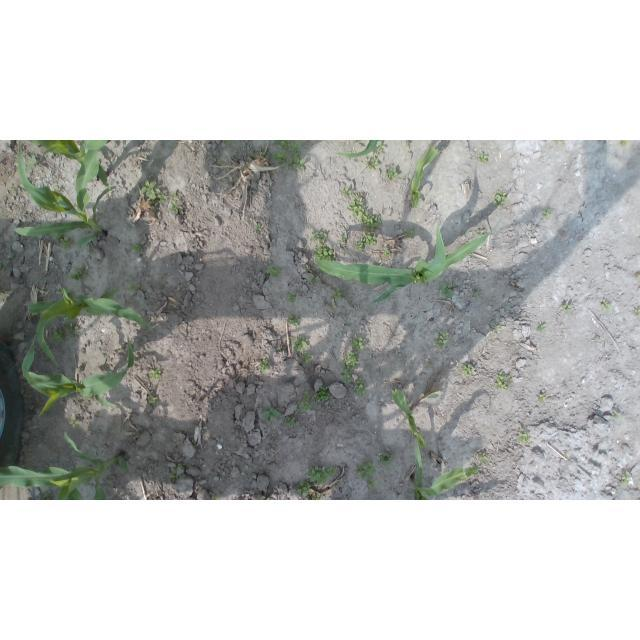Maize: (315, 214, 505, 304), (15, 141, 118, 248), (24, 284, 152, 368), (22, 333, 135, 417), (0, 432, 128, 500), (26, 141, 112, 190), (409, 440, 479, 500), (389, 388, 439, 446), (410, 147, 437, 210), (335, 140, 414, 158)
Weeds: (270, 141, 306, 172), (141, 178, 167, 206), (340, 352, 359, 384), (307, 465, 337, 485), (314, 241, 336, 262), (354, 460, 376, 481), (359, 211, 381, 229), (347, 195, 365, 217), (53, 233, 74, 251), (261, 405, 281, 422), (495, 373, 512, 392), (434, 330, 450, 350), (297, 391, 313, 411), (64, 317, 80, 337), (170, 191, 183, 214), (290, 336, 307, 353), (314, 386, 331, 403), (71, 265, 88, 281), (439, 282, 455, 299), (296, 480, 311, 497), (492, 190, 506, 208), (379, 453, 395, 468), (386, 163, 399, 181), (51, 327, 65, 343), (361, 231, 377, 245), (516, 428, 530, 444), (351, 334, 365, 350), (354, 379, 367, 396), (26, 155, 40, 170), (365, 156, 380, 170), (267, 265, 282, 278), (287, 313, 300, 327), (149, 367, 162, 381), (331, 287, 343, 301), (259, 359, 271, 373), (130, 243, 145, 254), (601, 300, 613, 313), (311, 232, 328, 241), (621, 471, 631, 486), (286, 291, 297, 304), (301, 352, 312, 365), (375, 140, 386, 152), (476, 452, 488, 463), (462, 364, 472, 377), (308, 273, 321, 283), (366, 478, 376, 491), (170, 470, 179, 483), (40, 491, 53, 500), (341, 187, 351, 198), (148, 395, 158, 405), (129, 283, 140, 292), (478, 153, 487, 164), (286, 417, 295, 428), (70, 417, 79, 428), (563, 303, 572, 313), (406, 230, 415, 239), (614, 411, 623, 420), (538, 394, 547, 403), (543, 209, 551, 219), (355, 242, 363, 251), (254, 222, 262, 231), (537, 324, 545, 333), (178, 462, 187, 470), (384, 247, 391, 257), (554, 141, 564, 148), (310, 493, 320, 500), (210, 492, 218, 500), (54, 185, 61, 193), (476, 230, 484, 237), (305, 264, 312, 272), (255, 151, 266, 156), (635, 307, 640, 317), (220, 159, 227, 166), (225, 141, 232, 148), (180, 284, 186, 292), (340, 235, 346, 242), (493, 325, 500, 331), (475, 290, 481, 297), (621, 141, 629, 146), (262, 496, 271, 500), (425, 364, 432, 369), (90, 249, 95, 255), (84, 480, 90, 485), (636, 274, 640, 279), (596, 337, 601, 340), (531, 225, 535, 228)
